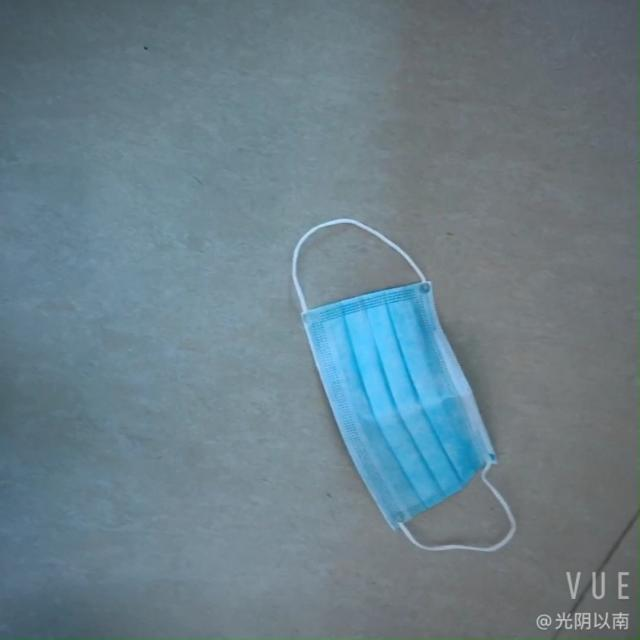non-organic waste: (321, 283, 493, 536)
